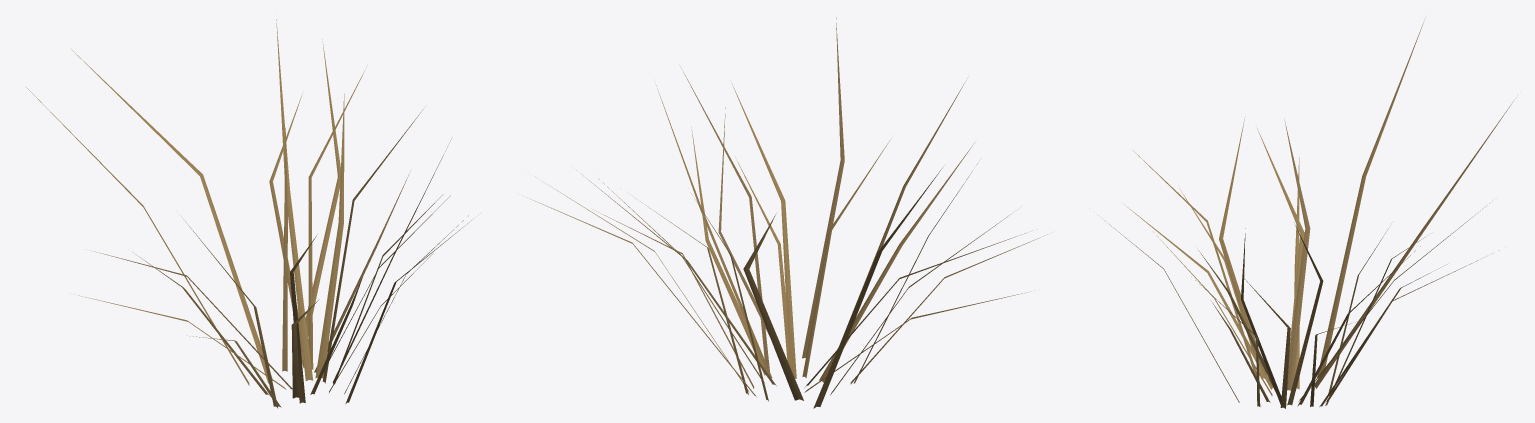
The model's file is SM_CN_Grass_B_LOD2.fbx.
3 renders of one model, left to right at view 1: azimuth 30°, elevation 25°; view 2: azimuth 150°, elevation 25°; view 3: azimuth 270°, elevation 25°, orthographic. The views are drawn at different scales.
Visible parts, largest first — view 1: SM_CN_Grass_B_LOD2; view 2: SM_CN_Grass_B_LOD2; view 3: SM_CN_Grass_B_LOD2.
Part boxes in pixels (x1,y1,x2,y2): SM_CN_Grass_B_LOD2: [26, 19, 471, 408]; SM_CN_Grass_B_LOD2: [526, 17, 1047, 408]; SM_CN_Grass_B_LOD2: [1098, 17, 1516, 408].
Bounding box in the file's own units: 0.8372 × 0.88 × 0.64.
